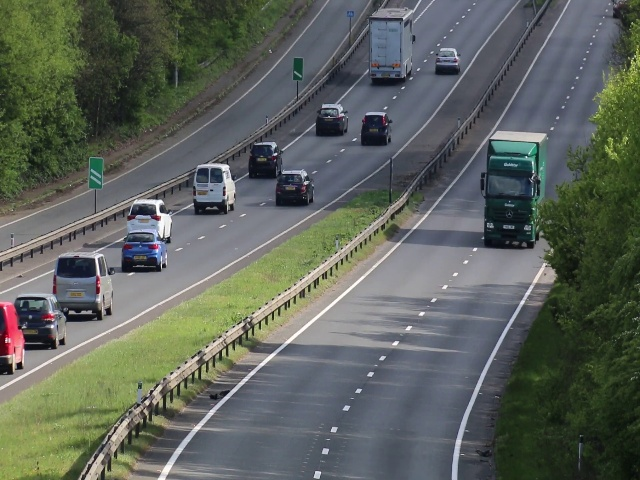car: (483, 155, 539, 250), (54, 252, 114, 318), (368, 8, 417, 83), (14, 294, 70, 346), (194, 163, 238, 213), (118, 232, 171, 271), (1, 301, 23, 373), (273, 169, 315, 205), (127, 197, 169, 230), (247, 141, 284, 178), (359, 110, 390, 145), (317, 103, 349, 135), (435, 44, 461, 72)
